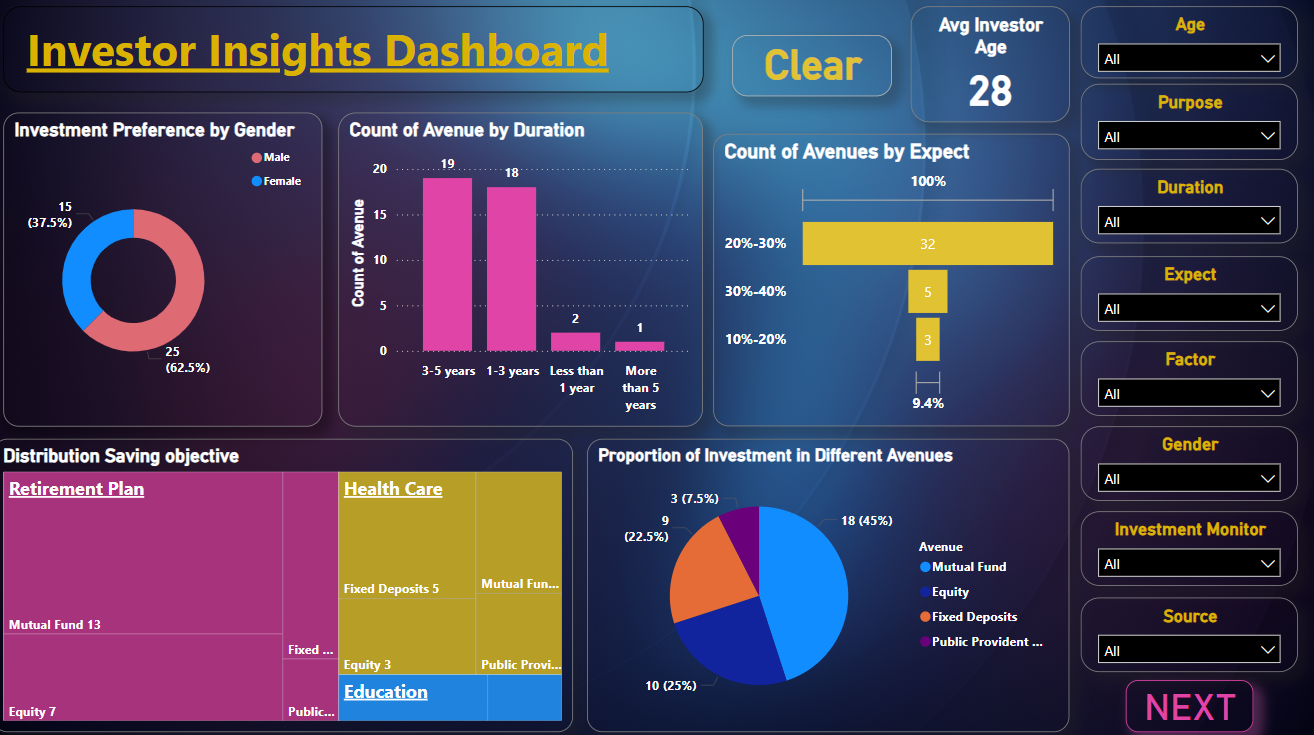

This screenshot's page, from the dashboard's own definition file:
{"tool":"powerbi","page":{"name":"Page 2","canvas":[1280,720],"ordinal":0},"visuals":[{"type":"slicer","title":"Age","fields":{"Values":["Data_set 2 - Copy.age"]},"box":[1050.8,10.9,209.9,70],"z":0},{"type":"slicer","title":"Purpose","fields":{"Values":["Data_set 2 - Copy.Purpose"]},"box":[1050.8,85.7,209.9,73.6],"z":1},{"type":"slicer","title":"Duration","fields":{"Values":["Data_set 2 - Copy.Duration"]},"box":[1050.8,167.7,209.9,72.4],"z":2},{"type":"slicer","title":"Expect","fields":{"Values":["Data_set 2 - Copy.Expect"]},"box":[1050.8,252.1,209.9,72.4],"z":3},{"type":"slicer","title":"Factor","fields":{"Values":["Data_set 2 - Copy.Factor"]},"box":[1050.8,334.2,209.9,72.4],"z":4},{"type":"slicer","title":"Gender","fields":{"Values":["Data_set 2 - Copy.gender"]},"box":[1050.8,416.2,209.9,72.4],"z":5},{"type":"slicer","title":"Investment Monitor ","fields":{"Values":["Data_set 2 - Copy.Invest_Monitor"]},"box":[1050.8,498.3,209.9,72.4],"z":6},{"type":"slicer","title":"Source ","fields":{"Values":["Data_set 2 - Copy.Source"]},"box":[1050.8,581.5,209.9,72.4],"z":7},{"type":"card","title":"Avg Investor Age","fields":{"Values":["Avg(Data_set 2 - Copy.age)"]},"box":[886.7,10.9,153.2,112.2],"z":8},{"type":"treemap","title":"Distribution Saving objective","fields":{"Group":["Data_set 2 - Copy.What are your savings objectives?"],"Details":["Data_set 2 - Copy.Avenue"],"Values":["CountNonNull(Data_set 2 - Copy.Avenue)"]},"box":[0,428.3,561,283.5],"z":9},{"type":"pieChart","title":"Proportion of Investment in Different Avenues ","fields":{"Category":["Data_set 2 - Copy.Avenue"],"Y":["Count(Data_set 2 - Copy.Index)"]},"box":[574.3,428.3,465.7,283.5],"z":10},{"type":"donutChart","title":"Investment Preference by Gender","fields":{"Category":["Data_set 2 - Copy.gender"],"Y":["Count(Data_set 2 - Copy.Index)"]},"box":[10.9,113.4,307.6,302.8],"z":11},{"type":"columnChart","fields":{"Category":["Data_set 2 - Copy.Duration"],"Y":["CountNonNull(Data_set 2 - Copy.Avenue)"]},"box":[334.2,113.4,352.3,302.8],"z":12},{"type":"textbox","box":[10.9,10.9,675.6,83.2],"z":13},{"type":"shape","title":"NEXT","box":[1094.2,661.1,123.1,50.7],"z":14},{"type":"funnel","title":"Count of Avenues by Expect","fields":{"Category":["Data_set 2 - Copy.Expect"],"Y":["CountNonNull(Data_set 2 - Copy.Index)"]},"box":[696.1,133.9,343.8,282.3],"z":15},{"type":"shape","title":"Clear","box":[714.2,38.6,154.4,59.1],"z":16}]}

Visuals, with their boxes in screenshot pixels (x1, y1, x2, y2), scaled from the page's 1280x720 canvas onto the 1314x735 screenshot:
"Age" slicer: 1079/11/1294/83
"Purpose" slicer: 1079/87/1294/163
"Duration" slicer: 1079/171/1294/245
"Expect" slicer: 1079/257/1294/331
"Factor" slicer: 1079/341/1294/415
"Gender" slicer: 1079/425/1294/499
"Investment Monitor " slicer: 1079/509/1294/583
"Source " slicer: 1079/594/1294/668
"Avg Investor Age" card: 910/11/1068/126
"Distribution Saving objective" treemap: 0/437/576/727
"Proportion of Investment in Different Avenues " pieChart: 590/437/1068/727
"Investment Preference by Gender" donutChart: 11/116/327/425
columnChart - Data_set 2 - Copy.Duration x CountNonNull(Data_set 2 - Copy.Avenue): 343/116/705/425
textbox: 11/11/705/96
"NEXT" shape: 1123/675/1250/727
"Count of Avenues by Expect" funnel: 715/137/1068/425
"Clear" shape: 733/39/892/100
